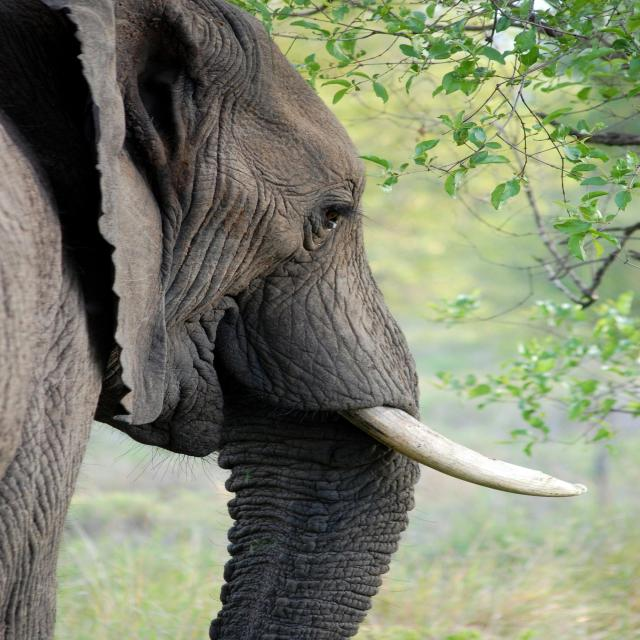Elephant: (0, 9, 587, 640)
